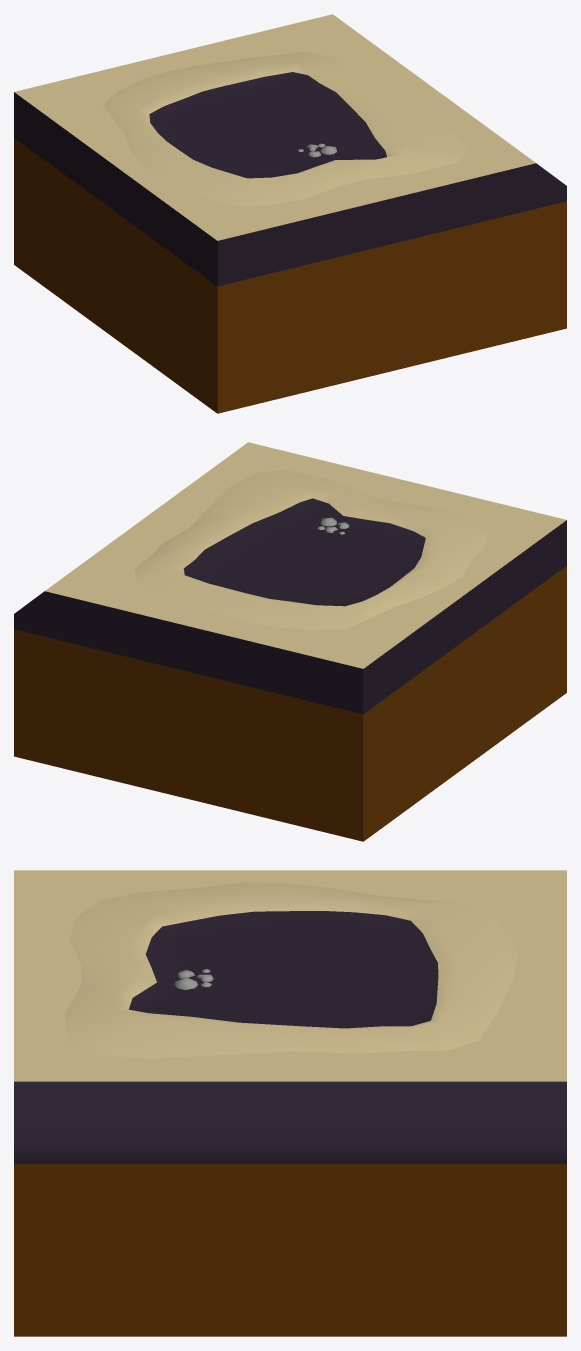
The model's file is TarPit01.fbx.
The picture shows the model from 3 angles, top to bottom: view 1: azimuth 30°, elevation 25°; view 2: azimuth 150°, elevation 25°; view 3: azimuth 270°, elevation 25°; orthographic projection. The views are drawn at different scales.
Visible parts, largest first — view 1: TarPit01; view 2: TarPit01; view 3: TarPit01.
Part boxes in pixels (x1=…): TarPit01: x1=14, y1=14, x2=566, y2=413; TarPit01: x1=14, y1=442, x2=566, y2=841; TarPit01: x1=14, y1=870, x2=566, y2=1336.
Bounding box in the file's own units: 96.18 × 46.98 × 97.03.
1 material, 1 textured.
